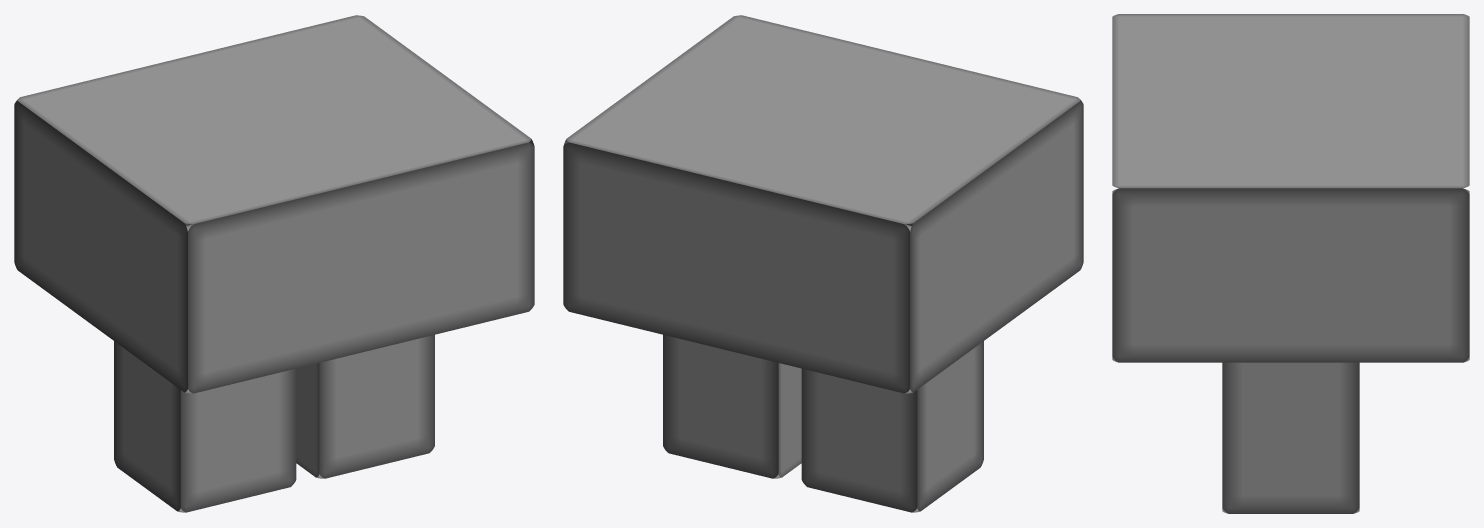
Rendered from Legs_Armour.fbx.
3 renders of one model, left to right at view 1: azimuth 30°, elevation 25°; view 2: azimuth 150°, elevation 25°; view 3: azimuth 270°, elevation 25°, orthographic. The views are drawn at different scales.
Parts seen in each view (by area): view 1: cube_2, cube, cube_1; view 2: cube_2, cube, cube_1; view 3: cube_2, cube_1.
Boxes of the visible parts, bbox=[...] form: cube_2: bbox=[14, 15, 534, 393]; cube: bbox=[114, 341, 296, 512]; cube_1: bbox=[296, 334, 434, 478]; cube_2: bbox=[563, 15, 1083, 393]; cube: bbox=[801, 341, 983, 512]; cube_1: bbox=[663, 334, 801, 478]; cube_2: bbox=[1112, 14, 1469, 362]; cube_1: bbox=[1222, 362, 1359, 513].
Size of the model in its own units: 93.75 by 87.5 by 81.25.
1 material, 1 textured.
